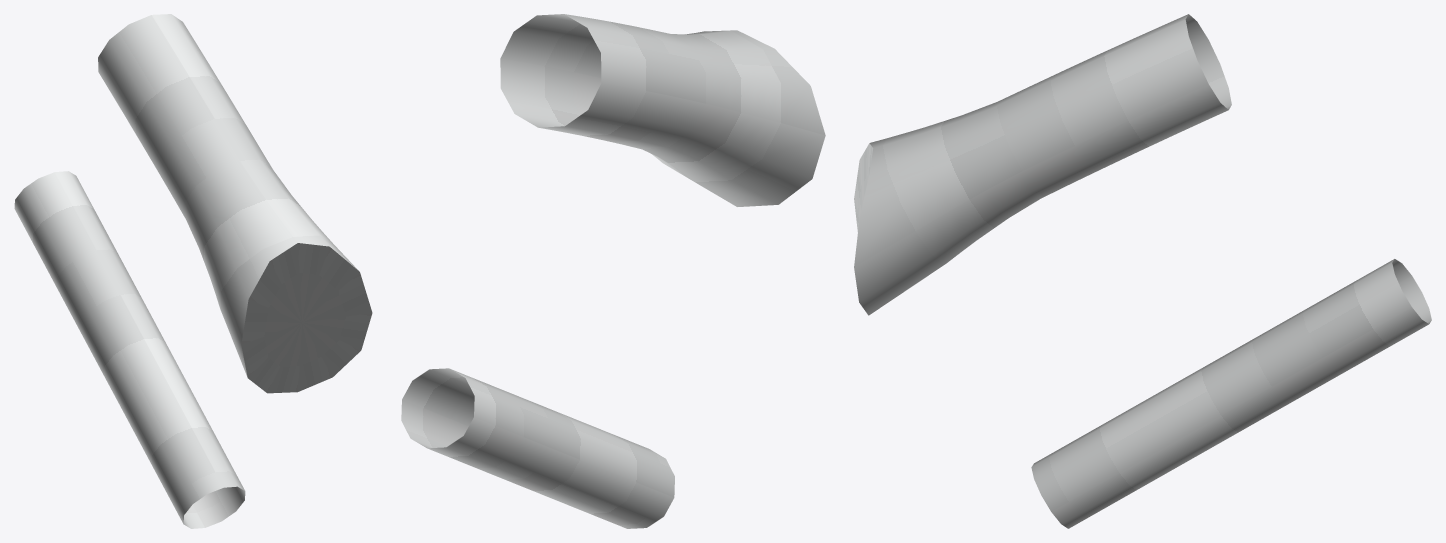
The model's file is luminairearm_truss12ft_c0.obj.
3 views of the same model, side by side, from view 1: azimuth 30°, elevation 25°; view 2: azimuth 150°, elevation 25°; view 3: azimuth 270°, elevation 25° (orthographic). The views are drawn at different scales.
Visible parts, largest first — view 1: luminairearm_truss12ft_c0; view 2: luminairearm_truss12ft_c0; view 3: luminairearm_truss12ft_c0.
Boxes of the visible parts, x1=… form: luminairearm_truss12ft_c0: x1=14, y1=14, x2=372, y2=528; luminairearm_truss12ft_c0: x1=401, y1=14, x2=825, y2=528; luminairearm_truss12ft_c0: x1=854, y1=14, x2=1431, y2=528.
Bounding box in the file's own units: 0.3375 × 1.16 × 1.21.
